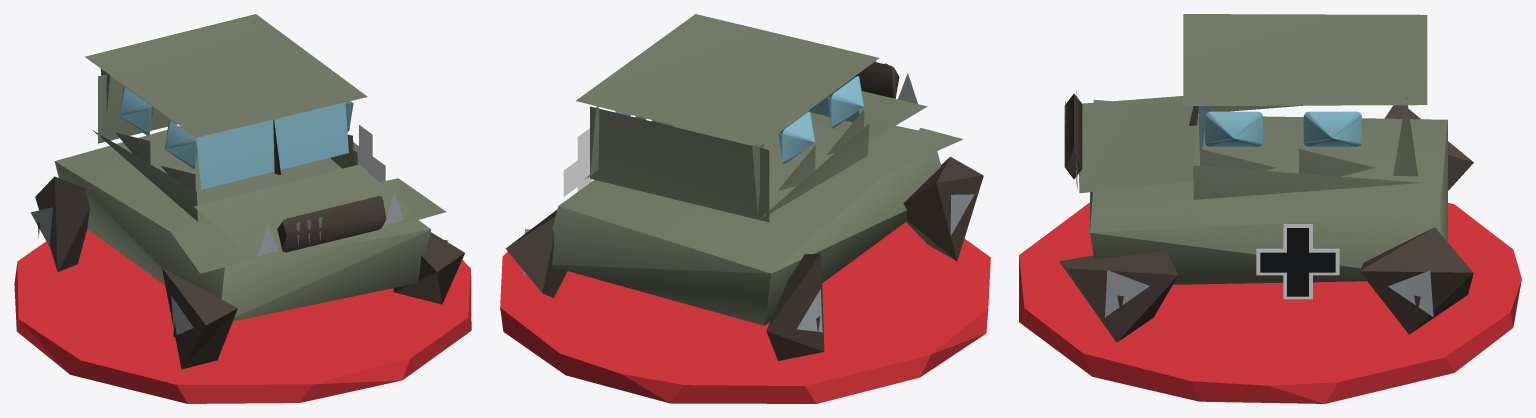
The model's file is germany_militia_lod1.glb.
3 renders of one model, left to right at view 1: azimuth 30°, elevation 25°; view 2: azimuth 150°, elevation 25°; view 3: azimuth 270°, elevation 25°, orthographic. The views are drawn at different scales.
Visible parts, largest first — view 1: body_hull, base_pedestal; view 2: body_hull, base_pedestal; view 3: body_hull, base_pedestal.
Boxes of the visible parts, x1,y1,x2,y2 form: body_hull: [30, 14, 464, 369]; base_pedestal: [14, 229, 471, 403]; body_hull: [505, 14, 983, 360]; base_pedestal: [500, 222, 990, 403]; body_hull: [1059, 14, 1473, 342]; base_pedestal: [1019, 202, 1521, 403].
Size of the model in its own units: 0.7751 by 0.4119 by 0.7751.
